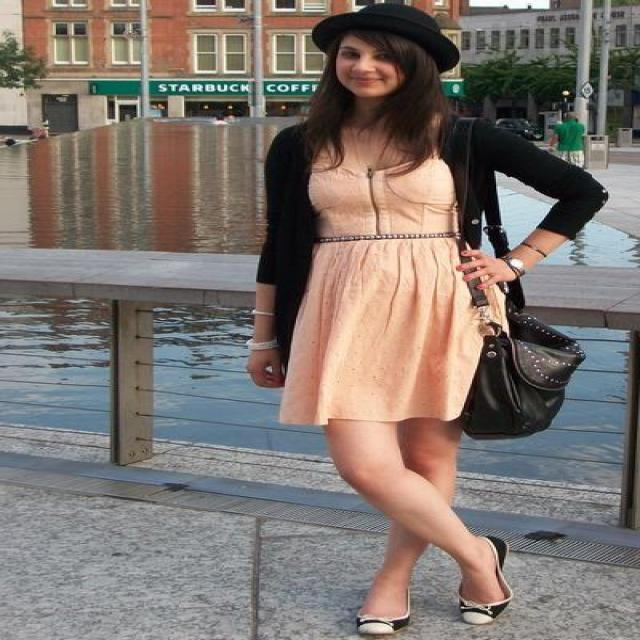bag: (454, 225, 598, 438)
dress: (278, 145, 508, 426)
hat: (312, 0, 458, 73)
jacket: (256, 100, 606, 370)
shoe: (360, 576, 509, 633)
